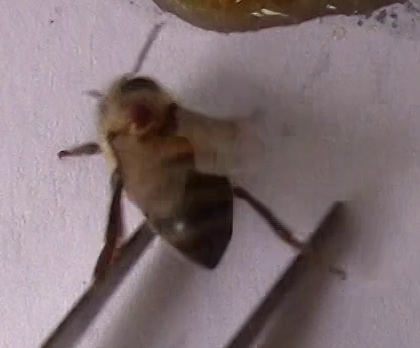Varroa destructor: (123, 100, 159, 134)
